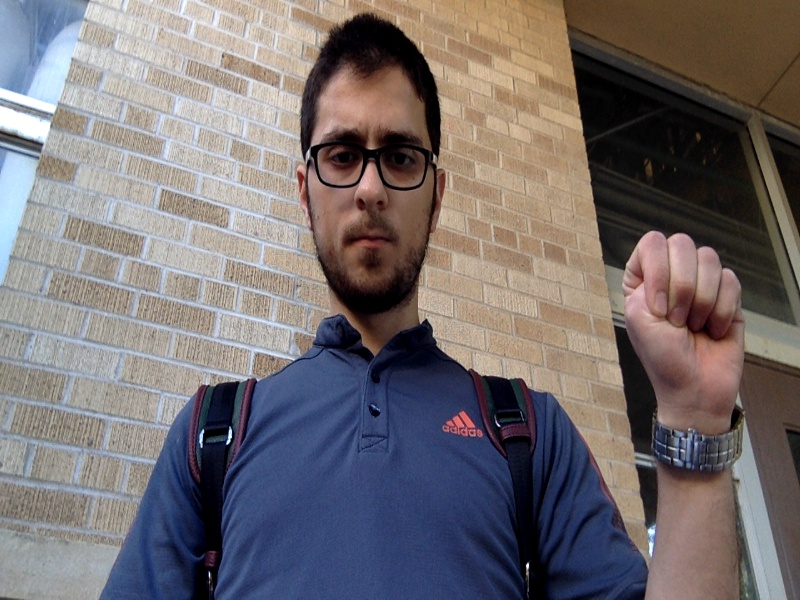0-hand: (624, 230, 743, 415)
